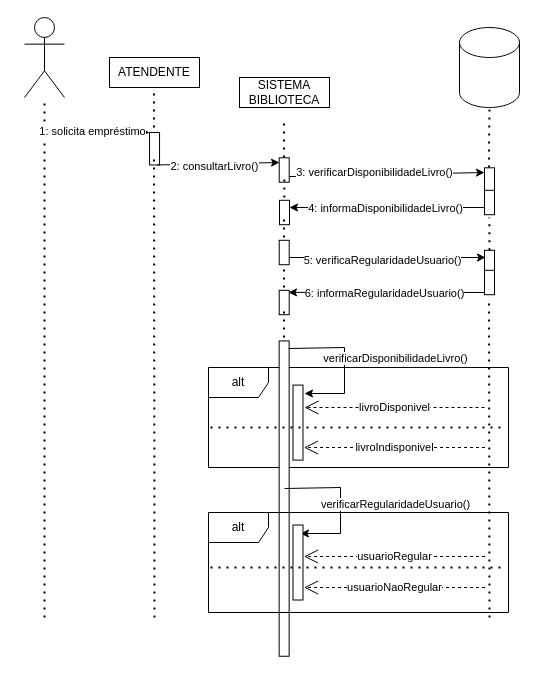
The diagram is 537 pixels wide and 674 high, and some of its shapes have lost their labels. Each missing label, with the centre of its shape:
"BANCO DE DADOS" goes at [489,67].
"USUÁRIO" goes at [44,57].
